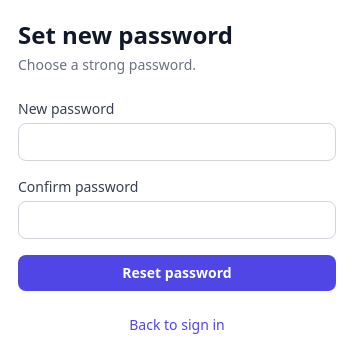
ResetPasswordPage › shows validation errors for weak password
The image size is (355, 361).
Type "weak" into the password field labelled "New password" at (177, 142), box [18,123,336,161]
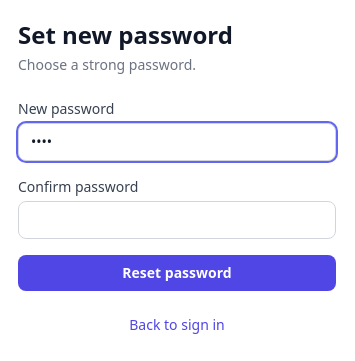
Type "weak" into the password field labelled "Confirm password" at (177, 220), box [18,201,336,239]
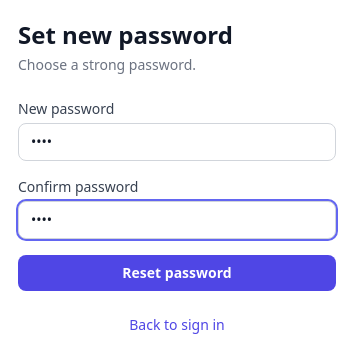
Click the button "Reset password" at (177, 273), box [18,255,336,291]
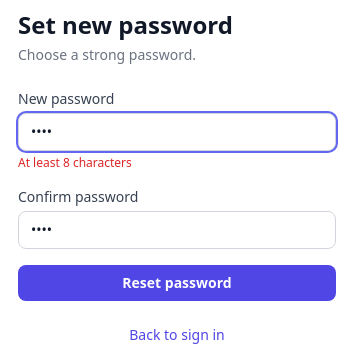
Expected: the text "At least 8 characters" is shown, [18,154,132,171]
